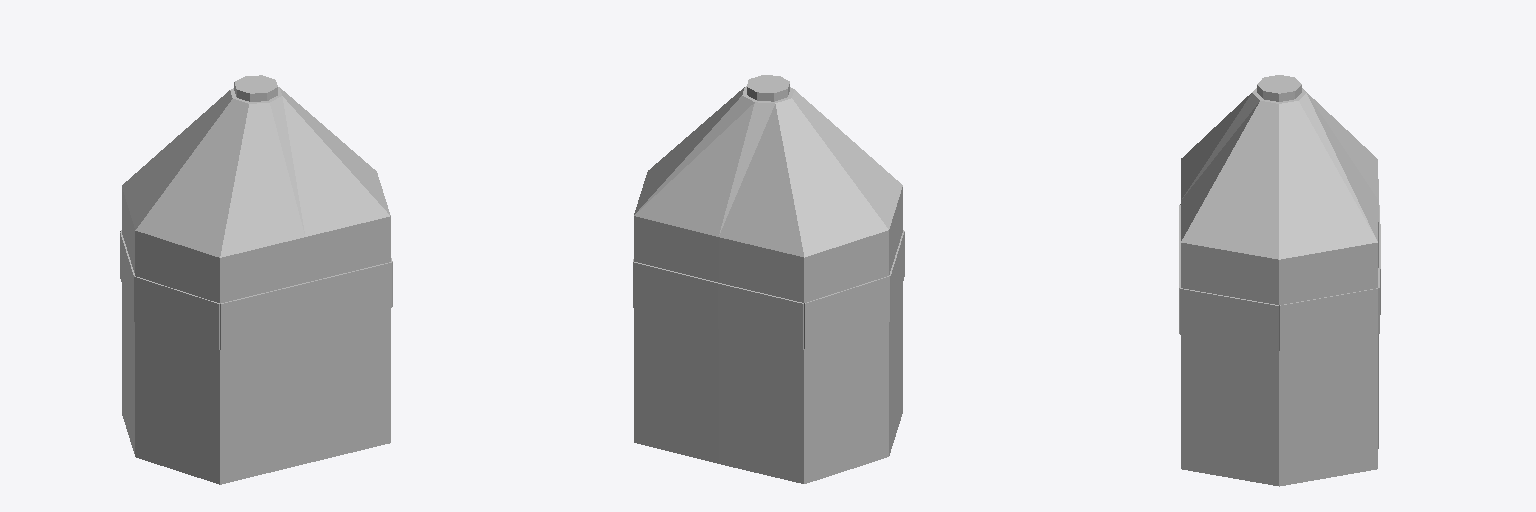
The model's file is Bottle.obj.
The picture shows the model from 3 angles: view 1: azimuth 30°, elevation 25°; view 2: azimuth 150°, elevation 25°; view 3: azimuth 270°, elevation 25°; orthographic projection.
Parts seen in each view (by area): view 1: Cylinder_Cylinder.002; view 2: Cylinder_Cylinder.002; view 3: Cylinder_Cylinder.002.
Boxes of the visible parts, box(x1,y1,x2,y2) form: Cylinder_Cylinder.002: box(120, 75, 392, 484); Cylinder_Cylinder.002: box(633, 75, 904, 483); Cylinder_Cylinder.002: box(1179, 75, 1380, 486).
Size of the model in its own units: 1.66 by 2.23 by 1.19.